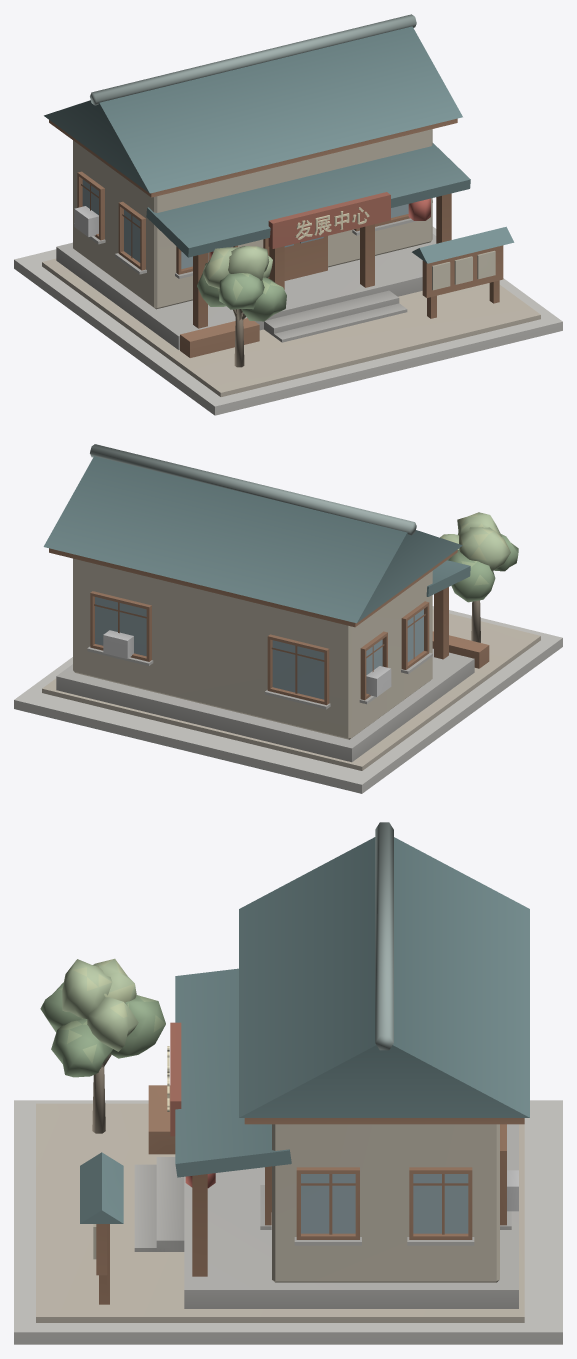
File: center.glb
3 views of the same model, one above another, from view 1: azimuth 30°, elevation 25°; view 2: azimuth 150°, elevation 25°; view 3: azimuth 270°, elevation 25° (orthographic). The views are drawn at different scales.
Visible parts, largest first — view 1: center; view 2: center; view 3: center.
Part boxes in pixels (x1,y1,x2,y2): center: [14, 14, 562, 415]; center: [14, 444, 562, 793]; center: [14, 822, 562, 1344].
Size of the model in its own units: 2 by 1.2 by 2.
